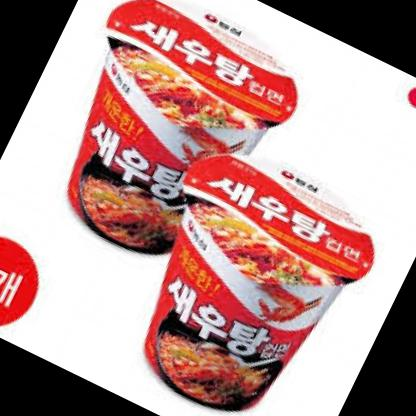Ramen: (24, 0, 320, 291), (102, 131, 387, 416)
